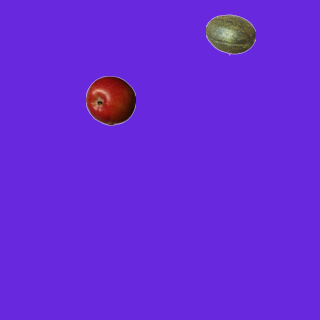Apple Braeburn: (85, 75, 135, 125)
Melon Piel de Sapo: (205, 9, 255, 59)
